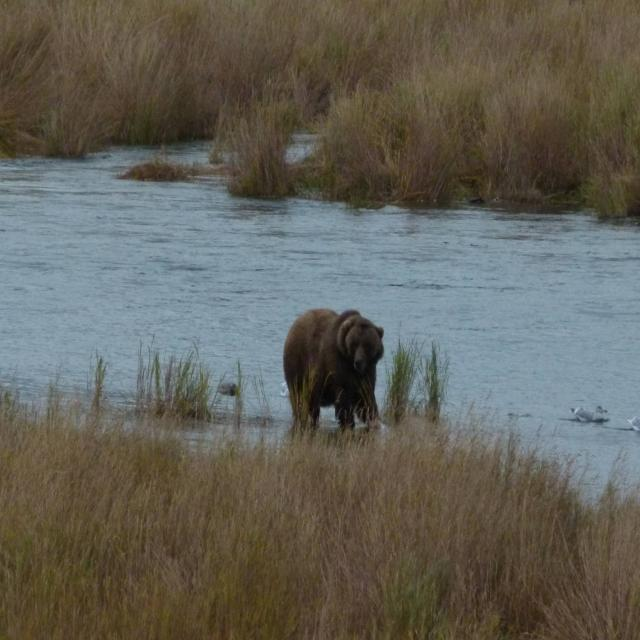bear face: (285, 309, 382, 428)
